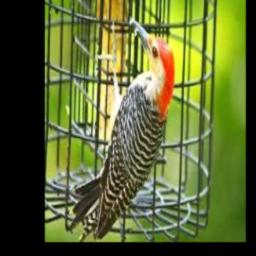Woodpecker: (72, 16, 175, 240)
